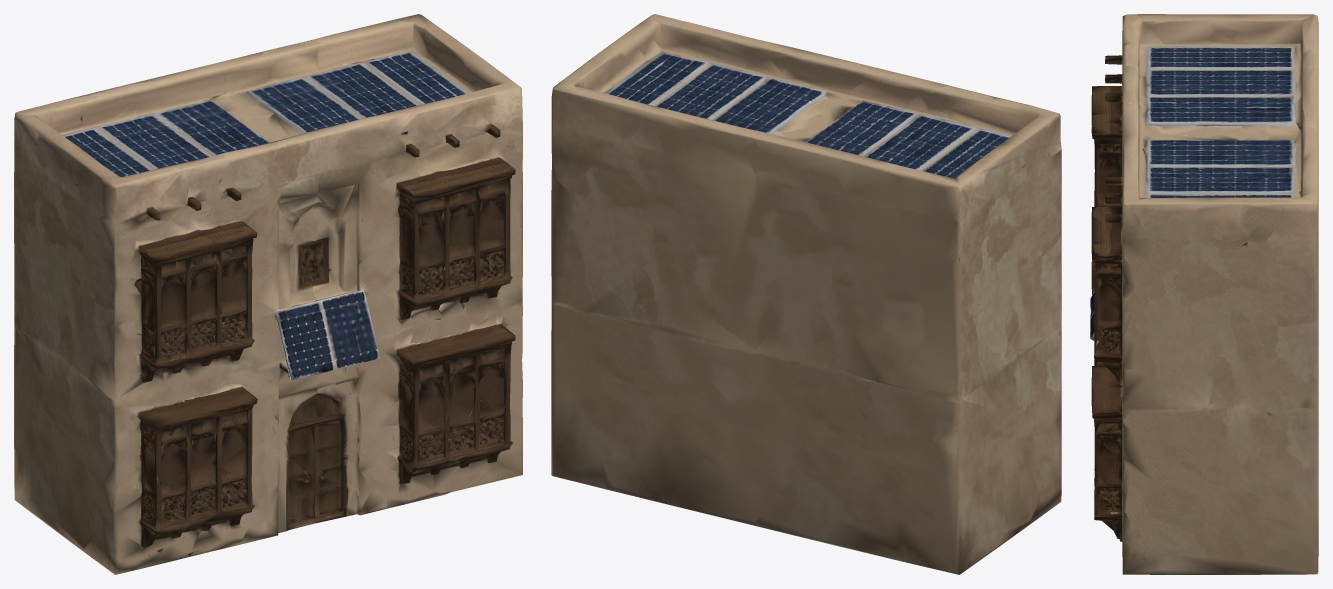
Rendered from heritage_lod1.glb.
The picture shows the model from 3 angles, left to right: view 1: azimuth 30°, elevation 25°; view 2: azimuth 150°, elevation 25°; view 3: azimuth 270°, elevation 25°; orthographic projection. The views are drawn at different scales.
Visible parts, largest first — view 1: mesh_node; view 2: mesh_node; view 3: mesh_node.
Boxes of the visible parts, x1,y1,x2,y2 form: mesh_node: [14, 14, 522, 574]; mesh_node: [551, 14, 1061, 574]; mesh_node: [1090, 14, 1318, 574].
Size of the model in its own units: 1.9 by 1.73 by 0.9645.
Materials: 1 (1 with a texture image).
